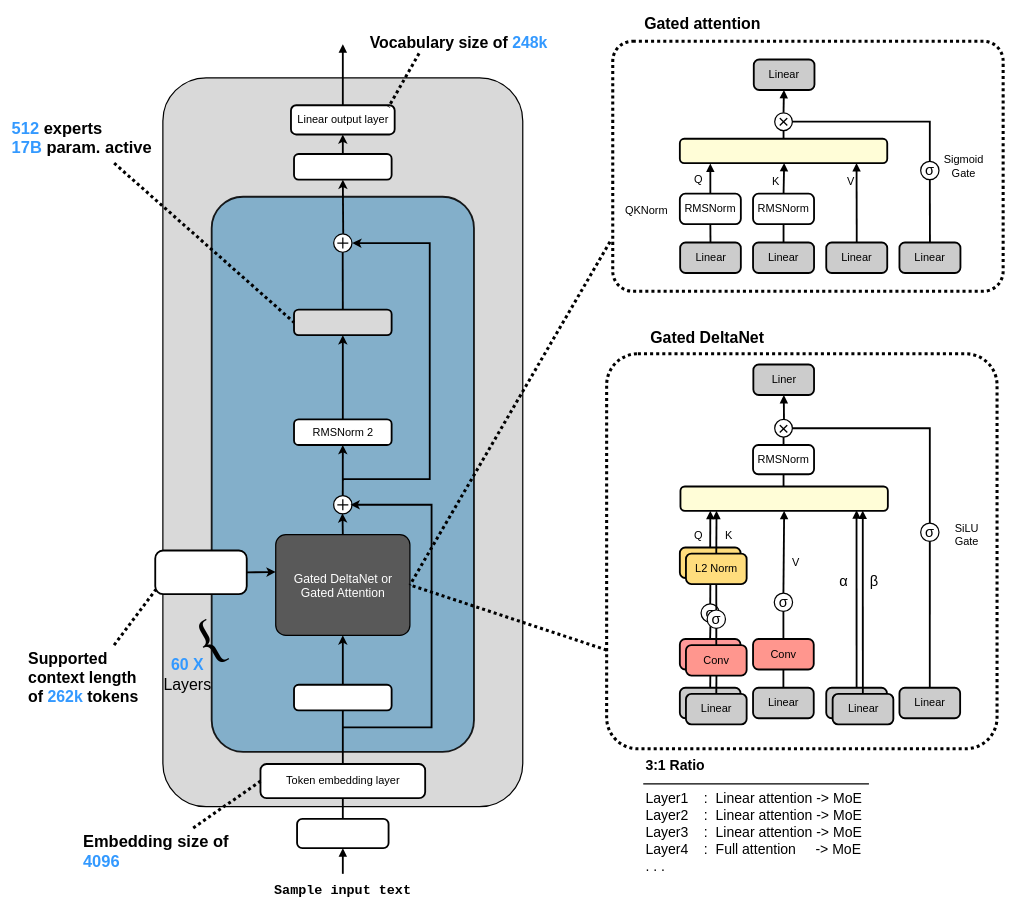
Some shapes in this 1015 by 914 pixel diagram are drawn without their labels. Here are the shapes that lost their labels. From the top down, the centre of each, then its label:
At point 342,166: "Final RMSNorm".
At point 783,151: "Scaled dot-product attention".
At point 342,322: "MoE".
At point 783,498: "Gated Delta Rule".
At point 200,572: "Partial RoPE (only in attention layers)".
At point 342,697: "RMSNorm 1".
At point 342,833: "Tokenized text".
